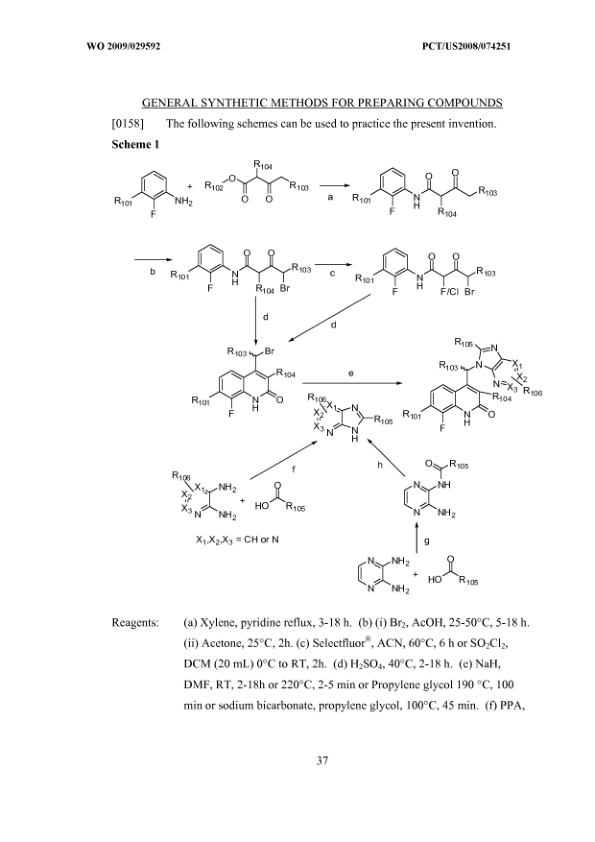compound-structure: (399, 332, 547, 447), (344, 159, 505, 222), (171, 240, 309, 303), (189, 340, 296, 420), (353, 246, 501, 303), (202, 156, 311, 219), (306, 389, 395, 452), (113, 160, 194, 228), (397, 450, 475, 518), (165, 463, 241, 526), (352, 554, 412, 600), (253, 474, 307, 525), (425, 553, 483, 590)
reaction: (94, 152, 595, 606)
reaction-arrow: (269, 296, 381, 345), (240, 442, 330, 484), (361, 438, 406, 485), (302, 370, 403, 389), (131, 250, 173, 277), (318, 177, 353, 200), (313, 259, 351, 280), (248, 293, 262, 350), (413, 520, 430, 558)
